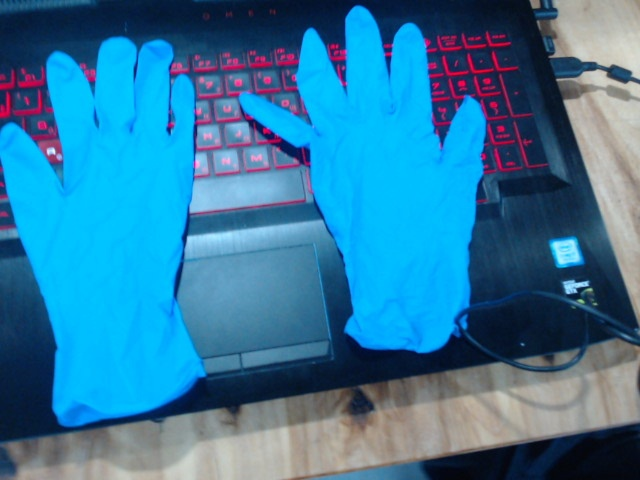medical_glove: (238, 3, 486, 348), (1, 35, 205, 428)
